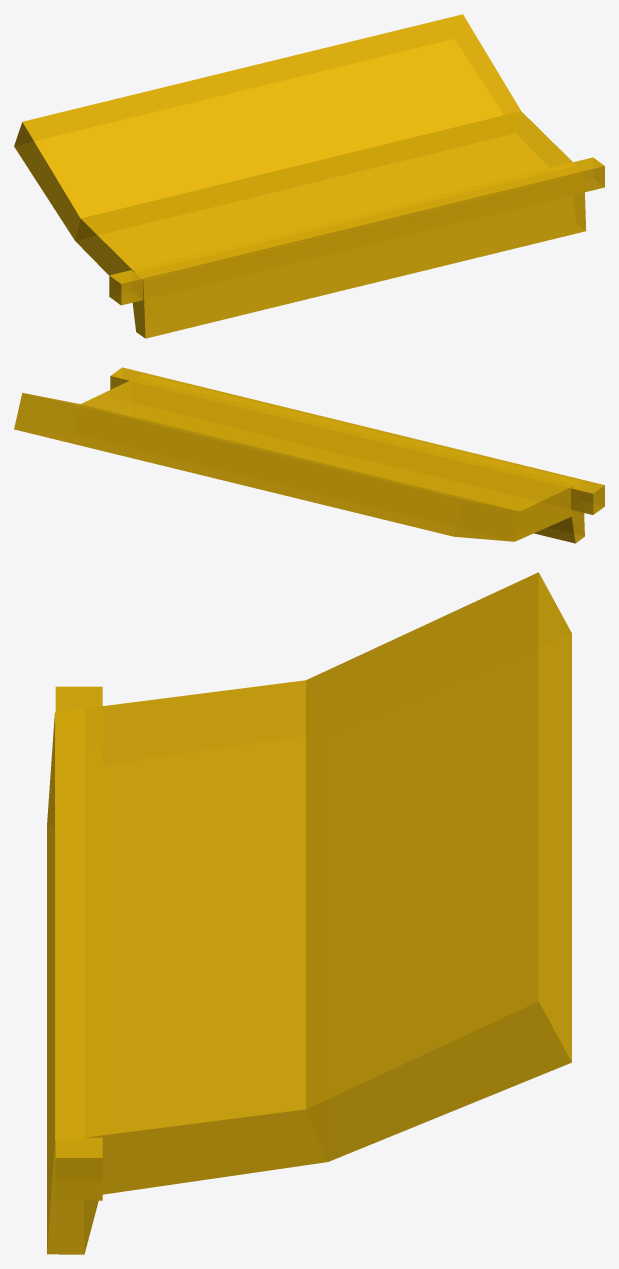
Rendered from SM_Bld_Awning_03_Collision.fbx.
The picture shows the model from 3 angles, top to bottom: view 1: azimuth 30°, elevation 25°; view 2: azimuth 150°, elevation 25°; view 3: azimuth 270°, elevation 25°; orthographic projection. The views are drawn at different scales.
Parts seen in each view (by area): view 1: SM_Bld_Awning_03_Collision; view 2: SM_Bld_Awning_03_Collision; view 3: SM_Bld_Awning_03_Collision.
Boxes of the visible parts, x1,y1,x2,y2 form: SM_Bld_Awning_03_Collision: (14,14,604,338); SM_Bld_Awning_03_Collision: (14,367,604,543); SM_Bld_Awning_03_Collision: (47,572,571,1254).
Size of the model in its own units: 584 by 146 by 275.
